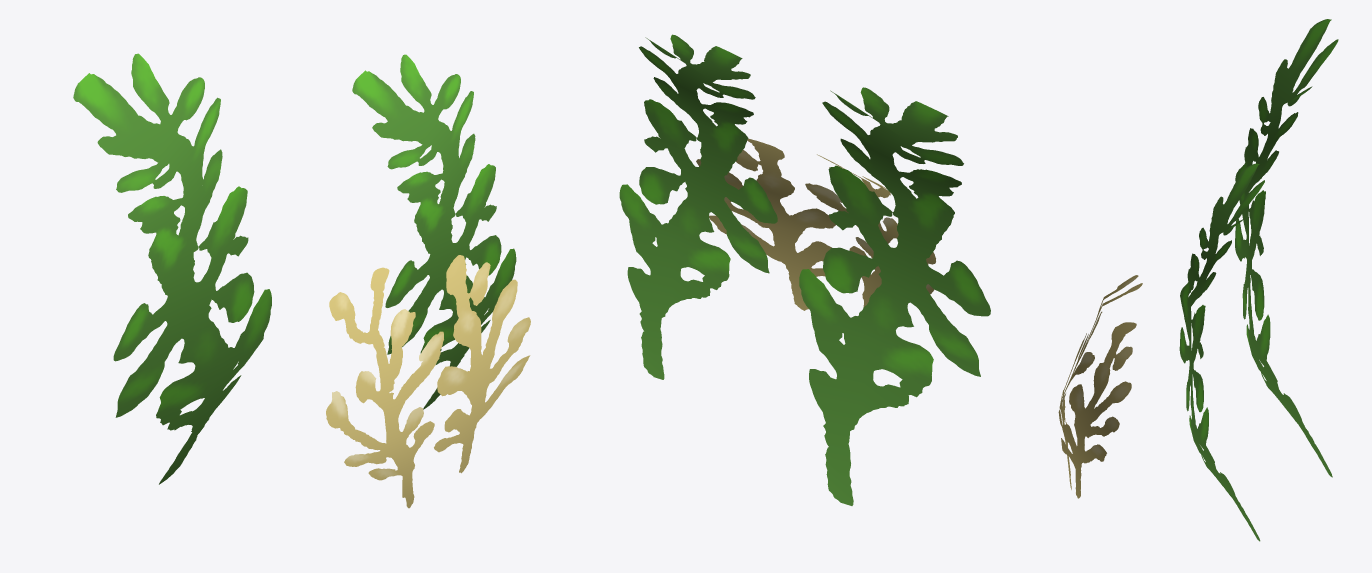
The model's file is flowers_03.fbx.
The picture shows the model from 3 angles, left to right: view 1: azimuth 30°, elevation 25°; view 2: azimuth 150°, elevation 25°; view 3: azimuth 270°, elevation 25°; orthographic projection.
Parts seen in each view (by area): view 1: plants2; view 2: plants2; view 3: plants2.
Boxes of the visible parts, x1,y1,x2,y2 form: plants2: (73,53,530,508); plants2: (619,34,990,505); plants2: (1058,19,1338,541).
Bounding box in the file's own units: 0.5889 × 0.5563 × 0.3151.
